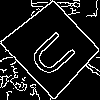U: (26, 23, 85, 81)
